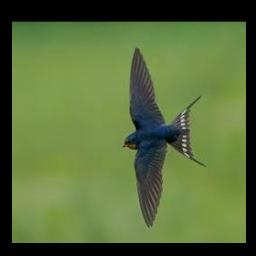Swallow: (122, 48, 207, 228)
